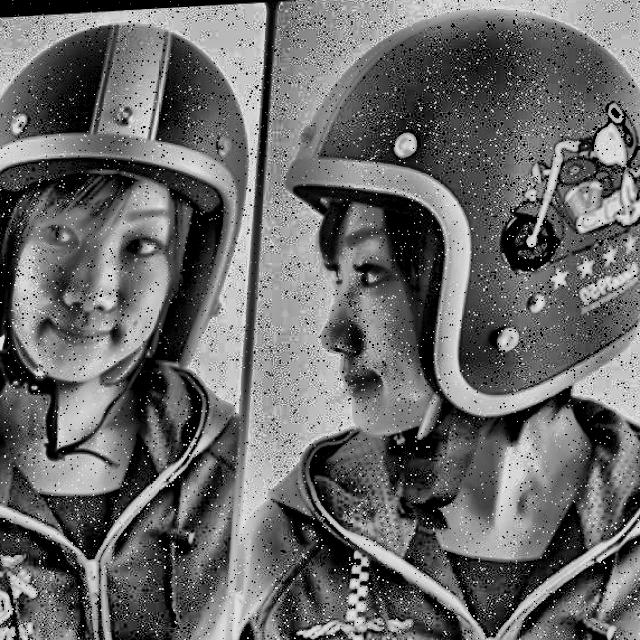Helmet: (261, 0, 640, 549), (0, 0, 267, 465)
